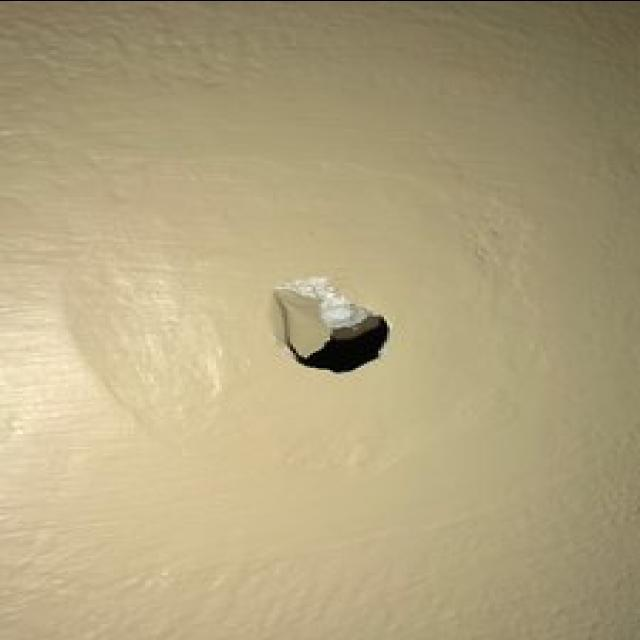Crack: (276, 279, 396, 381)
